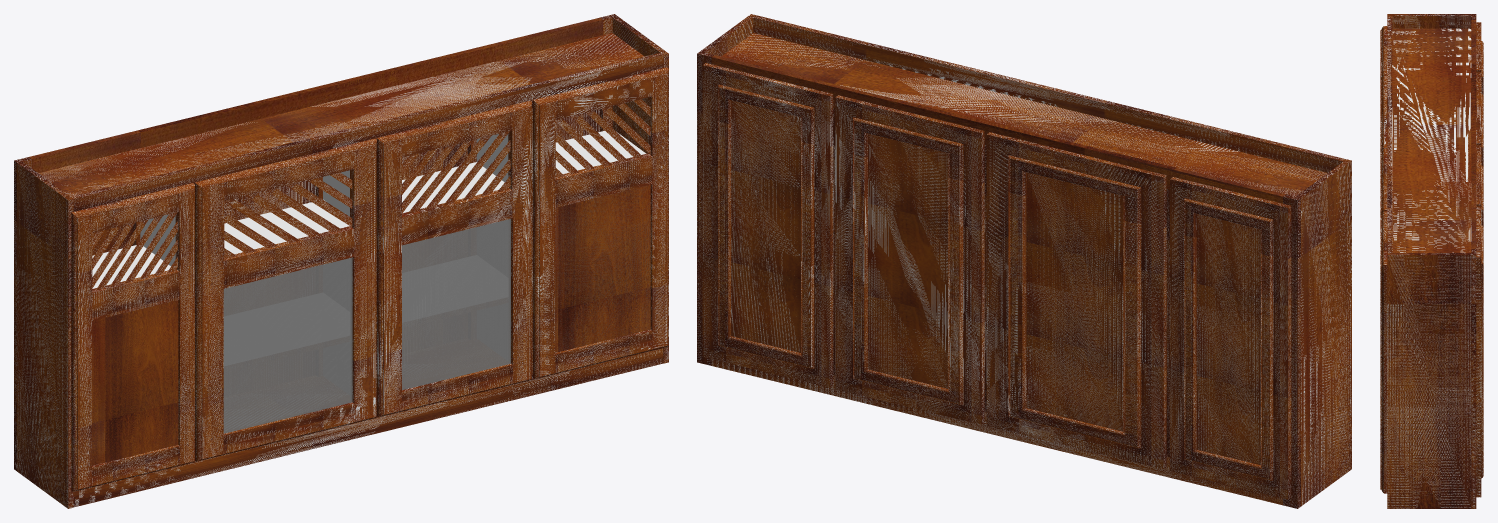
3 views of the same model, side by side, from view 1: azimuth 30°, elevation 25°; view 2: azimuth 150°, elevation 25°; view 3: azimuth 270°, elevation 25° (orthographic). The views are drawn at different scales.
Parts seen in each view (by area): view 1: mesh47_mesh47-geometry, mesh33_mesh33-geometry, mesh75_mesh75-geometry, mesh43_mesh43-geometry, mesh5_mesh5-geometry, mesh61_mesh61-geometry, mesh6_mesh6-geometry, mesh29_mesh29-geometry, mesh71_mesh71-geometry, mesh57_mesh57-geometry, mesh19_mesh19-geometry, mesh4_mesh4-geometry (+9 smaller); view 2: mesh2_mesh2-geometry, mesh84_mesh84-geometry, mesh78_mesh78-geometry, mesh81_mesh81-geometry, mesh5_mesh5-geometry, mesh6_mesh6-geometry, mesh4_mesh4-geometry, mesh19_mesh19-geometry, mesh80_mesh80-geometry, mesh79_mesh79-geometry, mesh8_mesh8-geometry, mesh14_mesh14-geometry (+3 smaller); view 3: mesh83_mesh83-geometry, mesh5_mesh5-geometry, mesh78_mesh78-geometry, mesh75_mesh75-geometry, mesh8_mesh8-geometry, mesh4_mesh4-geometry, mesh19_mesh19-geometry, mesh6_mesh6-geometry, mesh2_mesh2-geometry, mesh47_mesh47-geometry, mesh84_mesh84-geometry, mesh33_mesh33-geometry (+2 smaller).
Boxes of the visible parts, x1=… form: mesh47_mesh47-geometry: x1=194, y1=138, x2=376, y2=461; mesh33_mesh33-geometry: x1=376, y1=100, x2=531, y2=417; mesh75_mesh75-geometry: x1=532, y1=67, x2=668, y2=379; mesh43_mesh43-geometry: x1=223, y1=257, x2=352, y2=433; mesh5_mesh5-geometry: x1=38, y1=33, x2=644, y2=196; mesh61_mesh61-geometry: x1=71, y1=183, x2=194, y2=491; mesh6_mesh6-geometry: x1=17, y1=161, x2=73, y2=508; mesh29_mesh29-geometry: x1=402, y1=219, x2=510, y2=390; mesh71_mesh71-geometry: x1=555, y1=184, x2=650, y2=352; mesh57_mesh57-geometry: x1=92, y1=300, x2=178, y2=465; mesh19_mesh19-geometry: x1=29, y1=17, x2=602, y2=172; mesh4_mesh4-geometry: x1=71, y1=52, x2=663, y2=211; mesh2_mesh2-geometry: x1=986, y1=132, x2=1166, y2=469; mesh84_mesh84-geometry: x1=835, y1=95, x2=984, y2=424; mesh78_mesh78-geometry: x1=702, y1=63, x2=833, y2=387; mesh81_mesh81-geometry: x1=1170, y1=177, x2=1291, y2=499; mesh5_mesh5-geometry: x1=721, y1=33, x2=1327, y2=196; mesh6_mesh6-geometry: x1=1296, y1=159, x2=1351, y2=506; mesh4_mesh4-geometry: x1=753, y1=15, x2=1346, y2=172; mesh19_mesh19-geometry: x1=711, y1=55, x2=1285, y2=203; mesh80_mesh80-geometry: x1=711, y1=359, x2=1282, y2=505; mesh79_mesh79-geometry: x1=1283, y1=194, x2=1300, y2=508; mesh8_mesh8-geometry: x1=697, y1=51, x2=714, y2=365; mesh14_mesh14-geometry: x1=1166, y1=189, x2=1169, y2=457; mesh83_mesh83-geometry: x1=1387, y1=253, x2=1471, y2=508; mesh5_mesh5-geometry: x1=1392, y1=28, x2=1471, y2=252; mesh78_mesh78-geometry: x1=1476, y1=206, x2=1483, y2=497; mesh75_mesh75-geometry: x1=1380, y1=211, x2=1387, y2=493; mesh8_mesh8-geometry: x1=1471, y1=249, x2=1476, y2=508; mesh4_mesh4-geometry: x1=1387, y1=16, x2=1392, y2=252; mesh19_mesh19-geometry: x1=1471, y1=20, x2=1476, y2=248; mesh6_mesh6-geometry: x1=1387, y1=14, x2=1471, y2=28; mesh2_mesh2-geometry: x1=1476, y1=72, x2=1483, y2=167; mesh47_mesh47-geometry: x1=1380, y1=75, x2=1387, y2=152; mesh84_mesh84-geometry: x1=1476, y1=145, x2=1483, y2=226; mesh33_mesh33-geometry: x1=1380, y1=148, x2=1387, y2=214.
Size of the model in its own units: 0.886 by 0.4352 by 0.1601.
